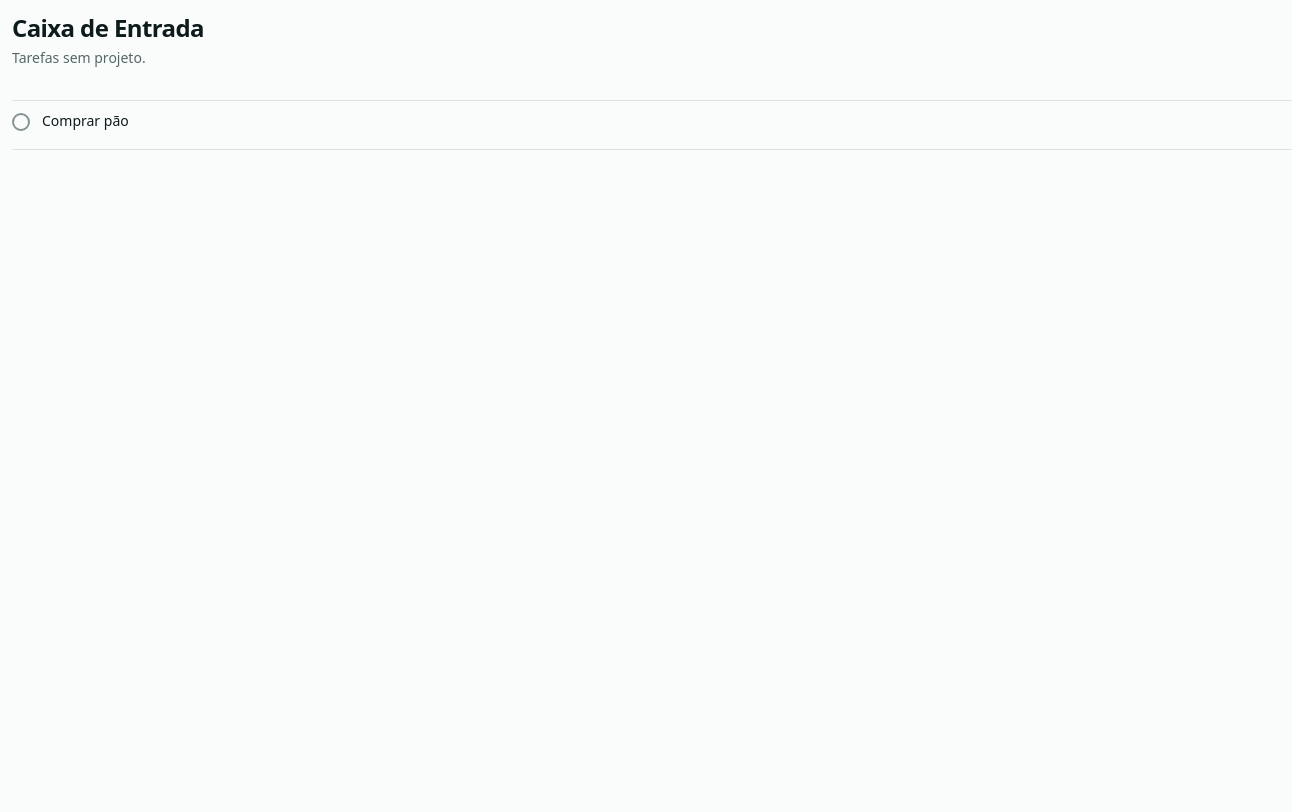
it: InboxPage › concluir remove a tarefa de imediato e permite desfazer
Click the checkbox named "Concluir \"Comprar pão\"" at (21, 122), box [12,113,30,131]
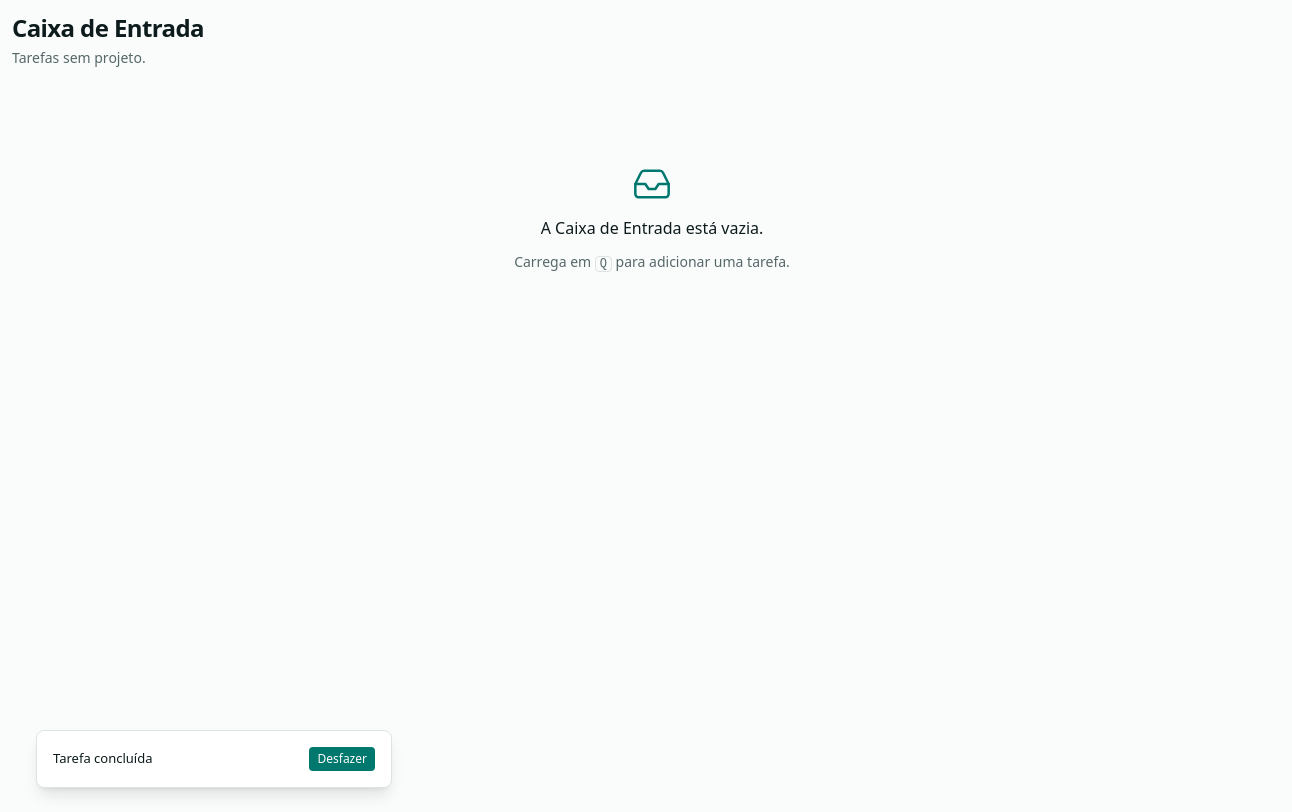
Result: the text "Comprar pão" is gone
Click the button "Desfazer" at (342, 759), box [310,747,375,771]
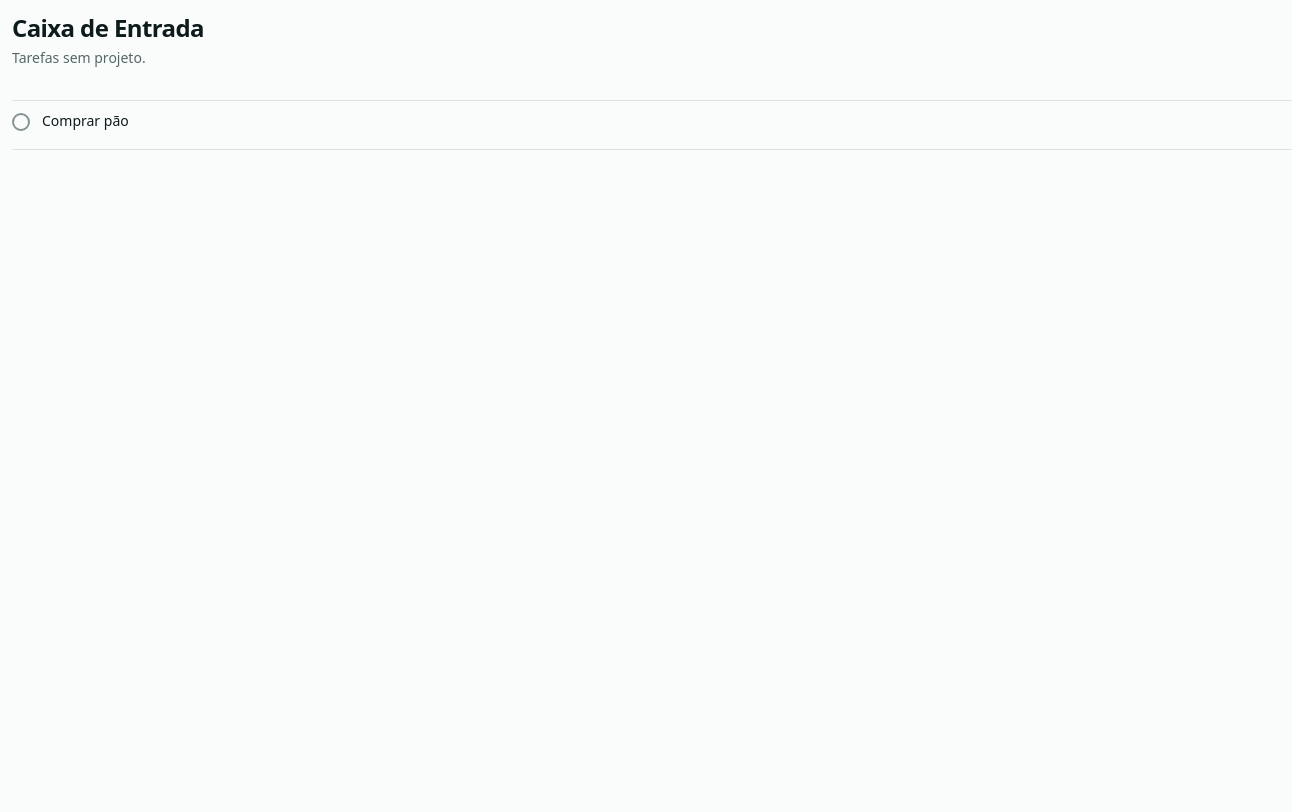
Result: the text "Comprar pão" is shown at [42,111,129,130]
